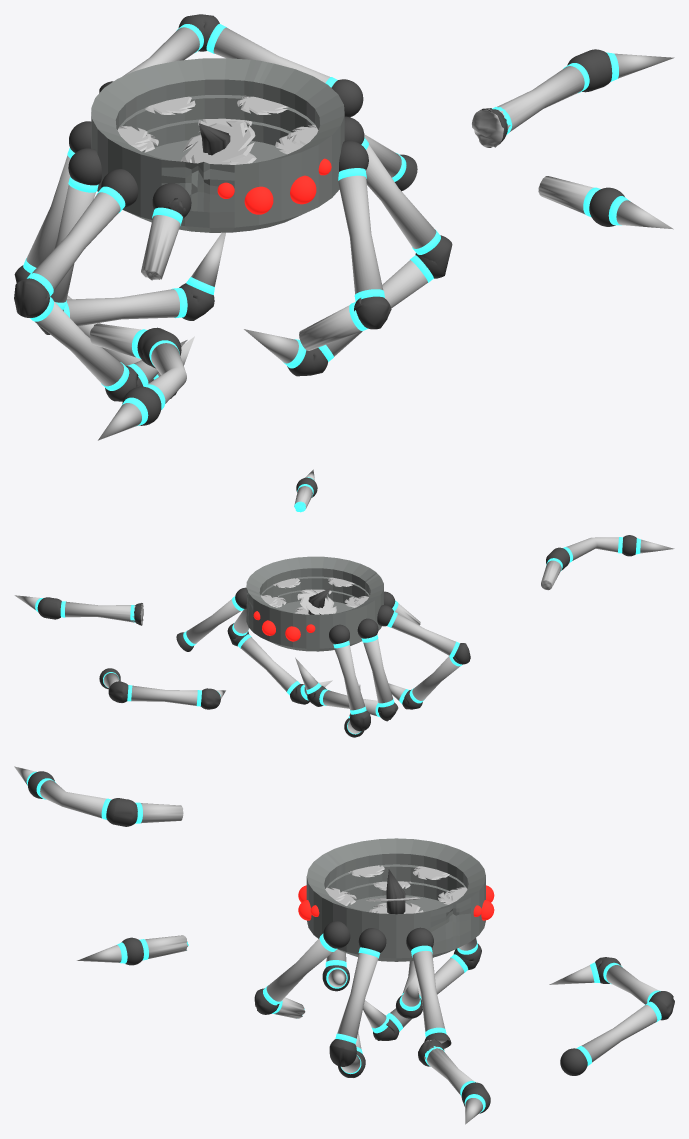
The model's file is Spider_Very_Dead.fbx.
3 renders of one model, top to bottom at view 1: azimuth 30°, elevation 25°; view 2: azimuth 150°, elevation 25°; view 3: azimuth 270°, elevation 25°, orthographic. The views are drawn at different scales.
Visible parts, largest first — view 1: Body, LEG, LEG.007, LEG.003, LEG.002, LEG.010, LEG.009, LEG.005, LEG.008, LEG.006, LEG.001, Saw_Blade.002 (+5 smaller); view 2: Body, LEG, LEG.007, LEG.005, LEG.009, LEG.010, LEG.006, LEG.003, LEG.004, LEG.008, Saw_Blade.002, Saw_Blade (+1 smaller); view 3: Body, LEG.005, LEG.009, LEG.003, LEG.002, LEG.004, LEG.006, LEG.010, LEG.008, Saw_Blade.002, LEG.007, LEG (+1 smaller).
Part boxes in pixels (left/top/right/bottom): Body: left=91, top=58, right=344, bottom=232; LEG: left=14, top=169, right=187, bottom=401; LEG.007: left=37, top=148, right=225, bottom=334; LEG.003: left=244, top=116, right=452, bottom=376; LEG.002: left=299, top=140, right=391, bottom=350; LEG.010: left=472, top=49, right=674, bottom=147; LEG.009: left=90, top=323, right=186, bottom=440; LEG.005: left=99, top=14, right=363, bottom=117; LEG.008: left=538, top=176, right=673, bottom=229; LEG.006: left=14, top=121, right=194, bottom=398; LEG.001: left=141, top=183, right=191, bottom=280; Saw_Blade.002: left=117, top=95, right=318, bottom=147; Body: left=246, top=556, right=383, bottom=651; LEG: left=377, top=605, right=470, bottom=709; LEG.007: left=295, top=618, right=398, bottom=721; LEG.005: left=99, top=668, right=225, bottom=709; LEG.009: left=541, top=535, right=674, bottom=590; LEG.010: left=14, top=595, right=143, bottom=625; LEG.006: left=329, top=624, right=370, bottom=737; LEG.003: left=227, top=609, right=332, bottom=704; LEG.004: left=176, top=587, right=246, bottom=651; LEG.008: left=294, top=469, right=317, bottom=512; Saw_Blade.002: left=261, top=577, right=369, bottom=605; Saw_Blade: left=297, top=589, right=336, bottom=614; Body: left=306, top=838, right=485, bottom=961; LEG.005: left=549, top=957, right=674, bottom=1075; LEG.009: left=14, top=766, right=183, bottom=826; LEG.003: left=329, top=928, right=386, bottom=1077; LEG.002: left=254, top=921, right=350, bottom=1018; LEG.004: left=406, top=927, right=451, bottom=1048; LEG.006: left=363, top=938, right=481, bottom=1040; LEG.010: left=418, top=1039, right=490, bottom=1124; LEG.008: left=77, top=935, right=188, bottom=965; Saw_Blade.002: left=325, top=865, right=467, bottom=901; LEG.007: left=396, top=957, right=433, bottom=1018; LEG: left=322, top=949, right=349, bottom=991.
Bounding box in the file's own units: 1294 × 380 × 1170.
